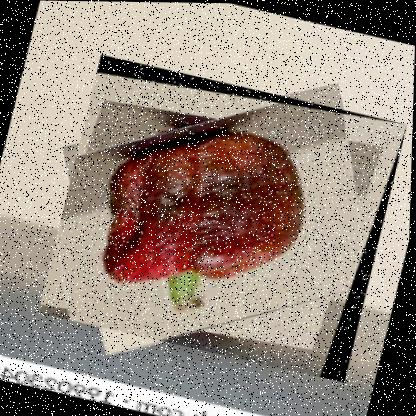capsicum_rotten: (37, 53, 409, 383)
